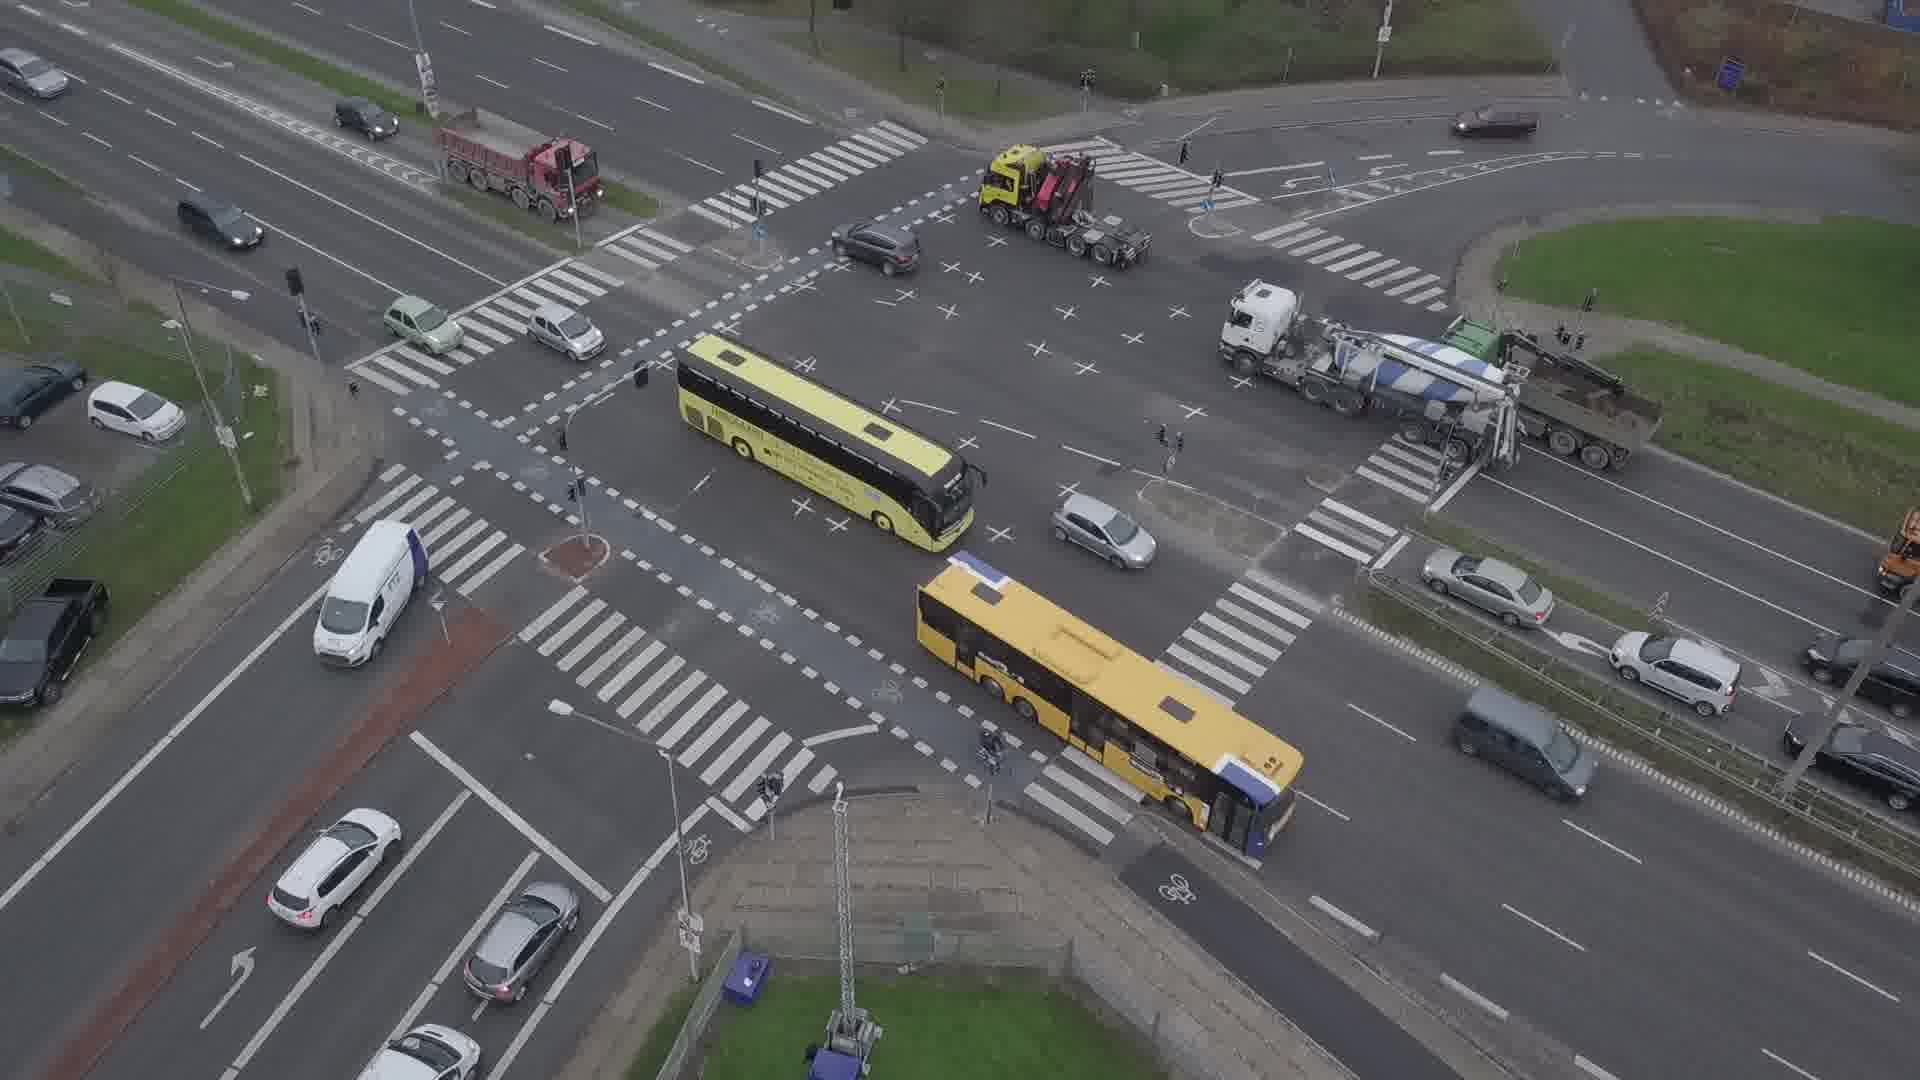bicycle: (968, 726, 1012, 782)
bus: (916, 549, 1304, 853), (676, 331, 987, 554)
car: (1455, 684, 1598, 799), (267, 808, 403, 928), (463, 880, 581, 1003), (1786, 714, 1920, 812), (1610, 630, 1744, 717), (1421, 548, 1556, 627), (1805, 634, 1920, 720), (1053, 493, 1156, 569), (830, 220, 922, 277), (176, 191, 264, 250), (384, 293, 465, 354), (528, 302, 606, 360), (0, 48, 68, 99), (334, 94, 400, 141), (1455, 103, 1540, 139)
lorry: (1217, 277, 1532, 469), (1440, 317, 1663, 470), (974, 138, 1158, 267), (435, 104, 604, 220), (313, 520, 429, 666), (355, 1023, 480, 1080)
